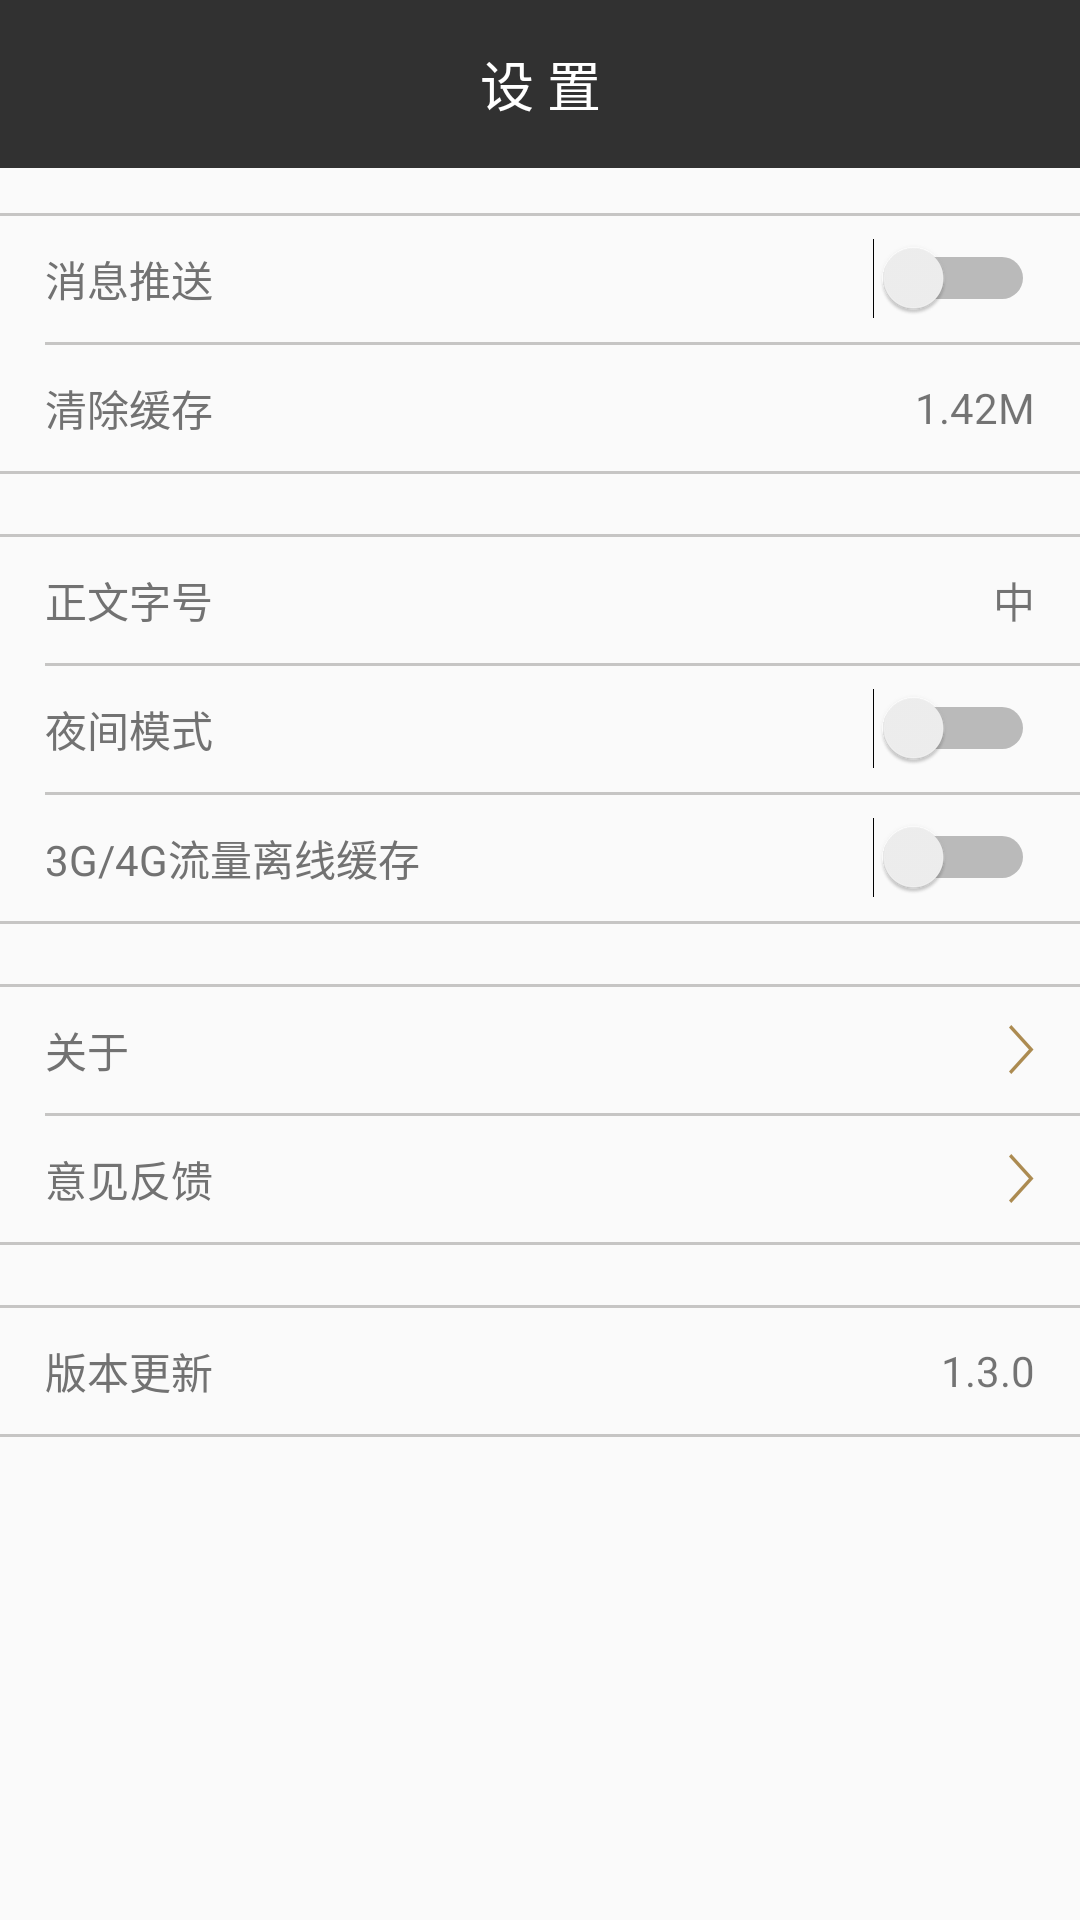

Icons on this 1080x1920 Android screen, each with its box as (x1, y1, x2, y2):
arrow right: (1009, 1025, 1034, 1074), (1009, 1154, 1034, 1203)
